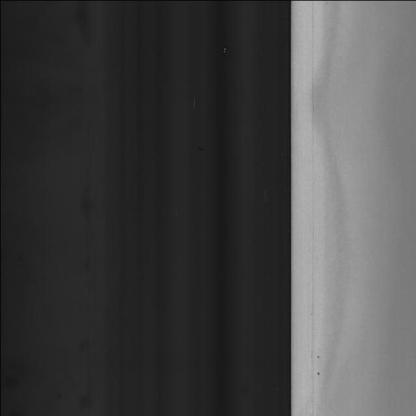inclusion: (314, 351, 322, 379)
